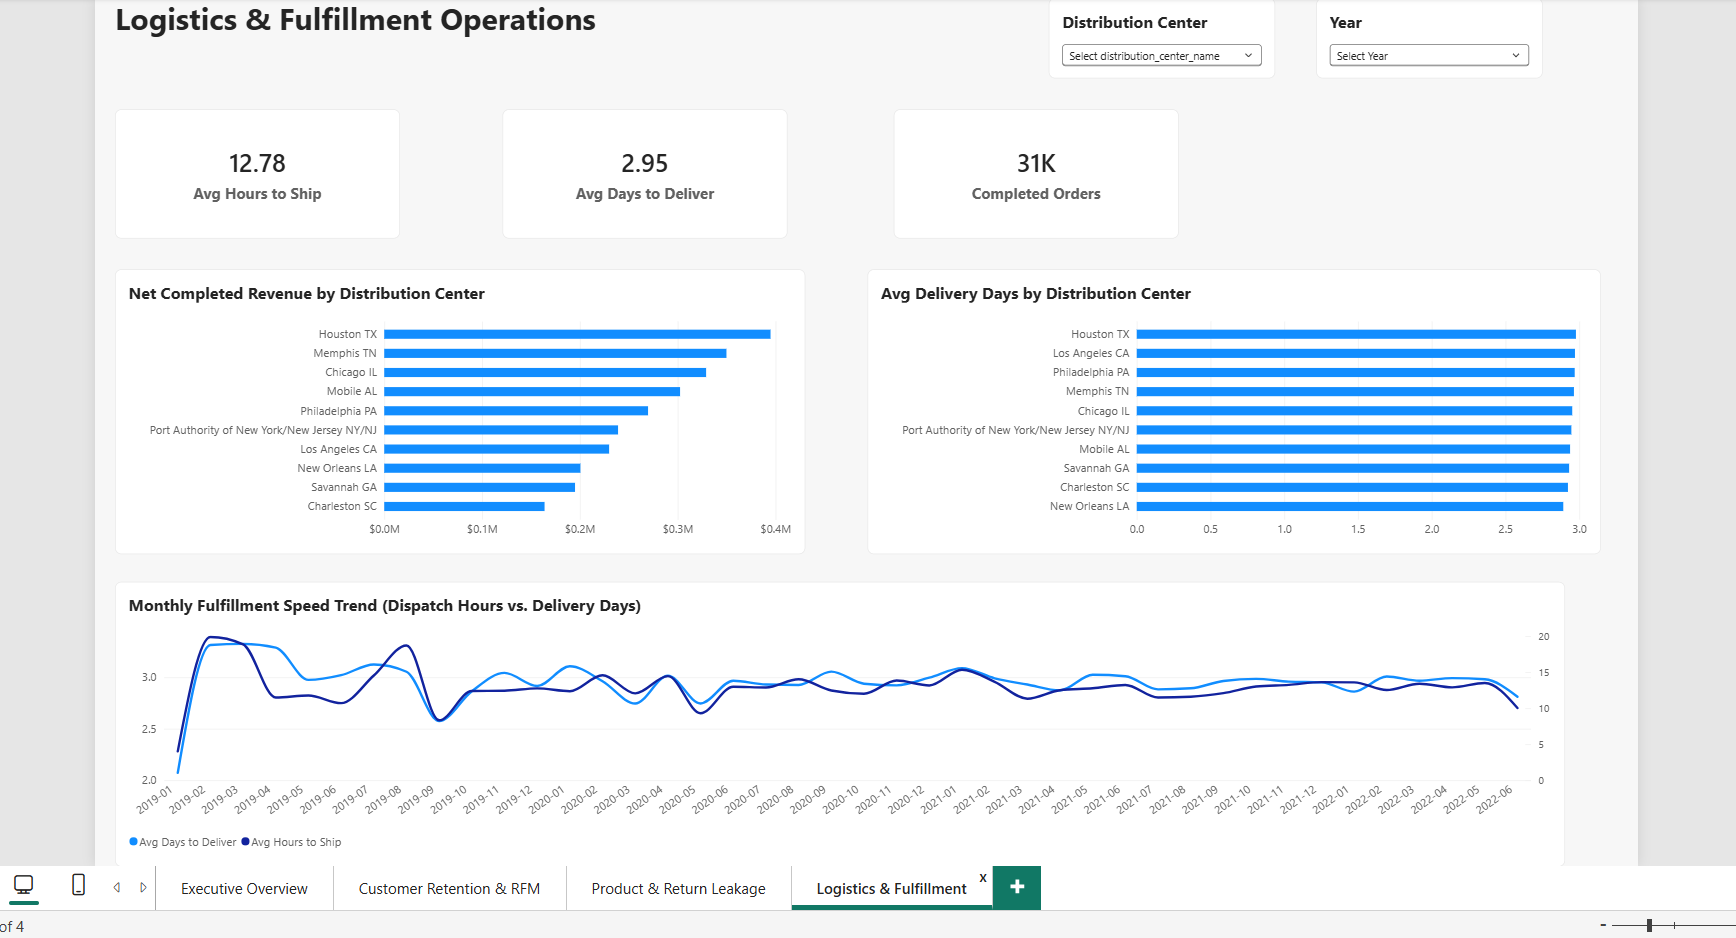

What the dashboard file says about the page in this screenshot:
{"tool":"powerbi","page":{"name":"Logistics & Fulfillment","canvas":[1920,1080],"ordinal":3},"visuals":[{"type":"textbox","box":[24.9,0,858.6,78.6],"z":0},{"type":"listSlicer","title":"Distribution Center","fields":{"Values":["vw_dim_products.distribution_center_name"]},"box":[1186.3,0,281.7,99.7],"z":1000},{"type":"listSlicer","fields":{"Values":["Dim_Date.Year"]},"box":[1517.9,0,281.7,99.7],"z":2000},{"type":"card","fields":{"Values":["_Measures.Avg Hours to Ship"]},"box":[24.9,138,354.6,161],"z":3000},{"type":"card","fields":{"Values":["_Measures.Avg Days to Deliver"]},"box":[506,138,354.6,161],"z":4000},{"type":"card","fields":{"Values":["_Measures.Completed Orders"]},"box":[992.8,138,354.6,161],"z":5000},{"type":"clusteredBarChart","title":"Net Completed Revenue by Distribution Center","fields":{"Category":["vw_dim_products.distribution_center_name"],"Y":["_Measures.Net Completed Revenue"]},"box":[24.9,337.3,858.6,354.6],"z":6000},{"type":"clusteredBarChart","title":"Avg Delivery Days by Distribution Center","fields":{"Category":["vw_dim_products.distribution_center_name"],"Y":["_Measures.Avg Days to Deliver"]},"box":[960.2,337.3,912.3,354.6],"z":7000},{"type":"lineChart","title":"Monthly Fulfillment Speed Trend (Dispatch Hours vs. Delivery Days)","fields":{"Category":["Dim_Date.Year-Month"],"Y":["_Measures.Avg Days to Deliver"],"Y2":["_Measures.Avg Hours to Ship"]},"box":[24.9,726.4,1803.5,354.6],"z":8000}]}

Visuals, with their boxes on the page's 1920x1080 design canvas (x1, y1, x2, y2). These are canvas units, not pixel positions in the 1736x938 screenshot, which may show the page scaled, cropped or inside an application window:
textbox: bbox=[25, 0, 884, 79]
"Distribution Center" listSlicer: bbox=[1186, 0, 1468, 100]
listSlicer - Dim_Date.Year: bbox=[1518, 0, 1800, 100]
card - _Measures.Avg Hours to Ship: bbox=[25, 138, 380, 299]
card - _Measures.Avg Days to Deliver: bbox=[506, 138, 861, 299]
card - _Measures.Completed Orders: bbox=[993, 138, 1347, 299]
"Net Completed Revenue by Distribution Center" clusteredBarChart: bbox=[25, 337, 884, 692]
"Avg Delivery Days by Distribution Center" clusteredBarChart: bbox=[960, 337, 1872, 692]
"Monthly Fulfillment Speed Trend (Dispatch Hours vs. Delivery Days)" lineChart: bbox=[25, 726, 1828, 1081]
